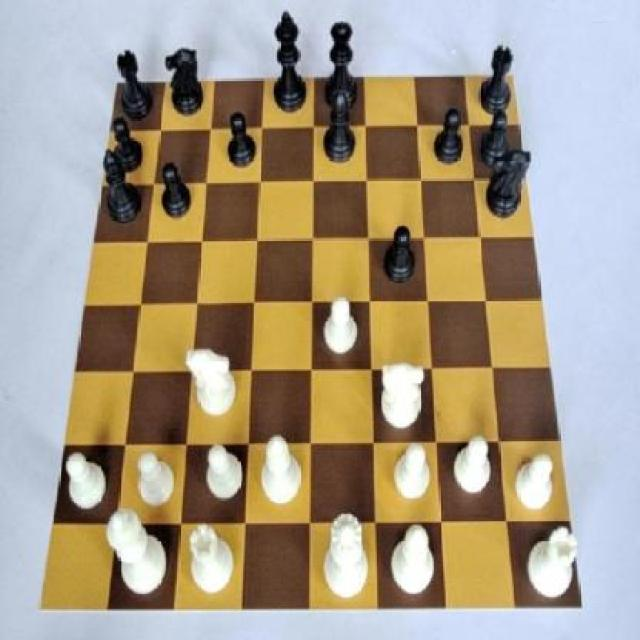bishop: (98, 149, 147, 232), (322, 85, 358, 172)
black-bishop: (269, 6, 309, 124)
black-king: (485, 144, 532, 226), (163, 48, 212, 120)
black-knight: (478, 104, 520, 174), (378, 220, 421, 288), (222, 106, 263, 172), (104, 119, 146, 178), (160, 163, 194, 231), (432, 104, 468, 168)
black-pawn: (318, 18, 358, 124)
black-queen: (111, 40, 156, 125), (478, 40, 512, 115)
black-rook: (386, 523, 441, 603), (259, 431, 303, 511)
white-bishop: (106, 505, 172, 606)
white-king: (186, 346, 246, 426), (376, 357, 432, 436)
white-knight: (55, 446, 110, 520), (194, 444, 245, 512), (134, 445, 178, 517), (510, 446, 554, 516), (452, 434, 495, 503), (391, 440, 432, 509), (322, 296, 362, 360)
white-pawn: (317, 511, 375, 603)
white-queen: (524, 523, 584, 604), (183, 522, 243, 600)
